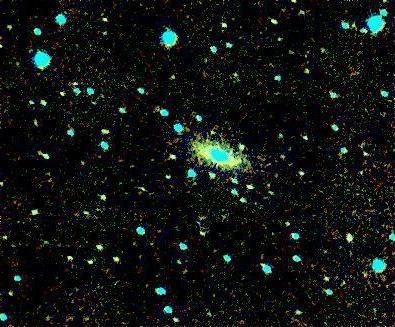star: (198, 117, 228, 147)
